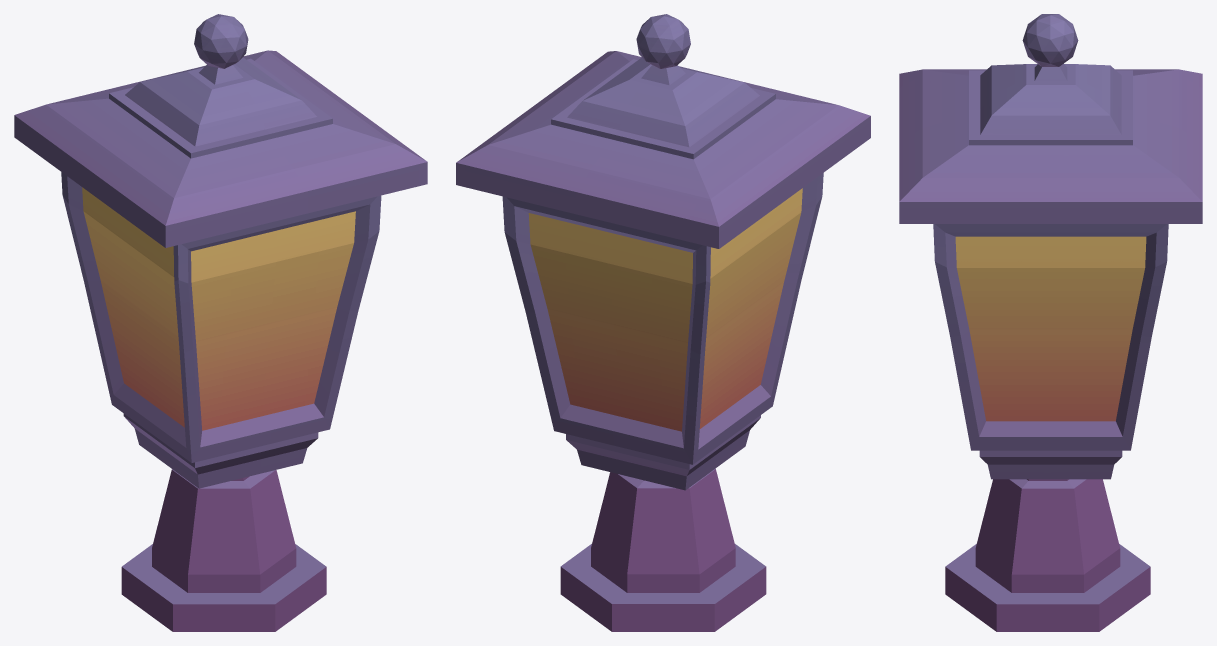
Rendered from lantern005.obj.
3 views of the same model, side by side, from view 1: azimuth 30°, elevation 25°; view 2: azimuth 150°, elevation 25°; view 3: azimuth 270°, elevation 25° (orthographic).
Visible parts, largest first — view 1: Lantern.005; view 2: Lantern.005; view 3: Lantern.005.
Boxes of the visible parts, x1,y1,x2,y2 form: Lantern.005: (14, 14, 427, 631); Lantern.005: (456, 14, 870, 631); Lantern.005: (899, 14, 1202, 631).
Size of the model in its own units: 1.37 by 2.89 by 1.37.
1 material, 1 textured.
